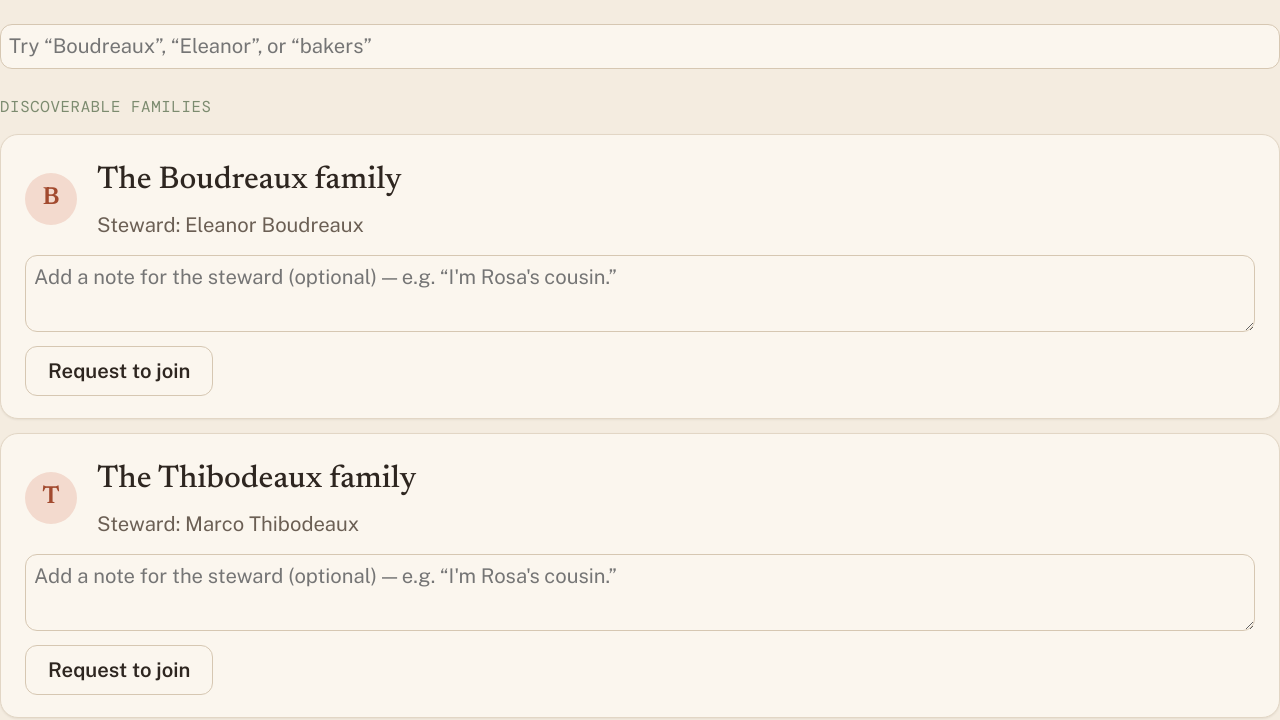
Test: FamilyFinder › shows the no-match line for a non-empty query that matches nothing
Type "zzzznope" into the field with placeholder "Try “Boudreaux”, “Eleanor”, or “bakers”".
click(640, 47); type("zzzznope")  # box left=0, top=24, right=1279, bottom=69
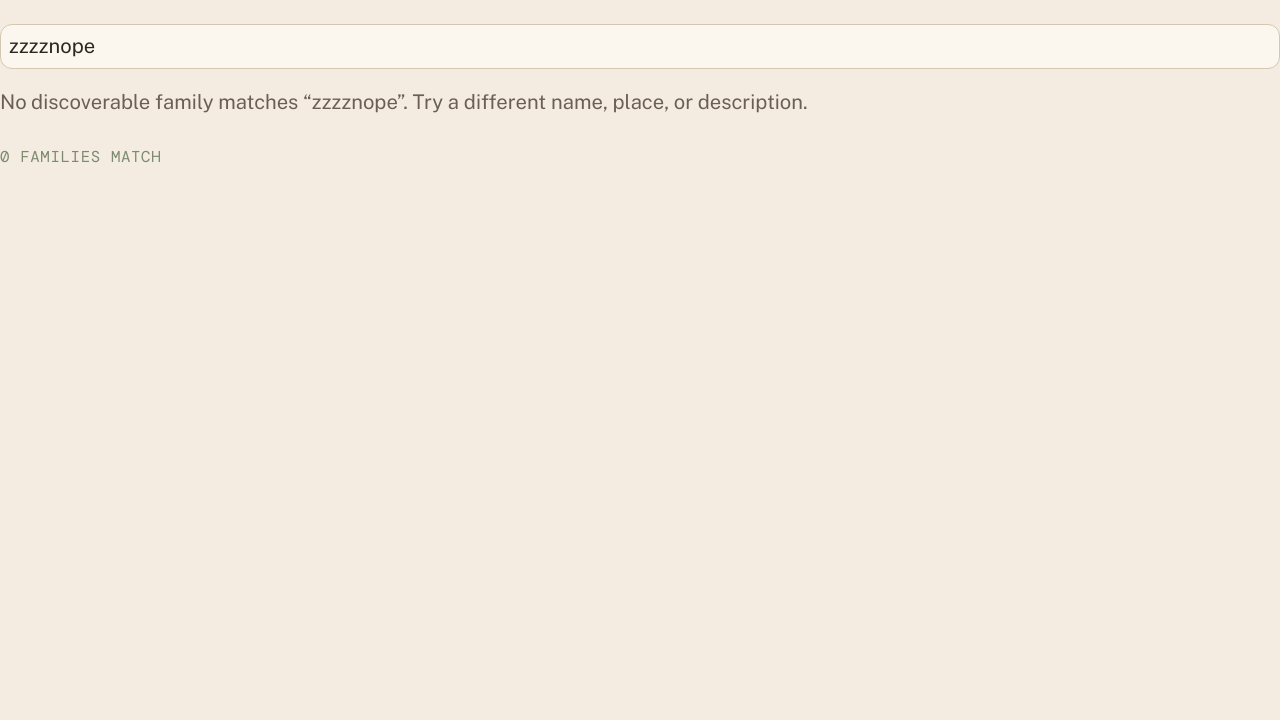
Now the text "No discoverable family matches" is shown, box left=0, top=90, right=808, bottom=114
Now the text "0 families match" is shown, box left=0, top=146, right=161, bottom=167
